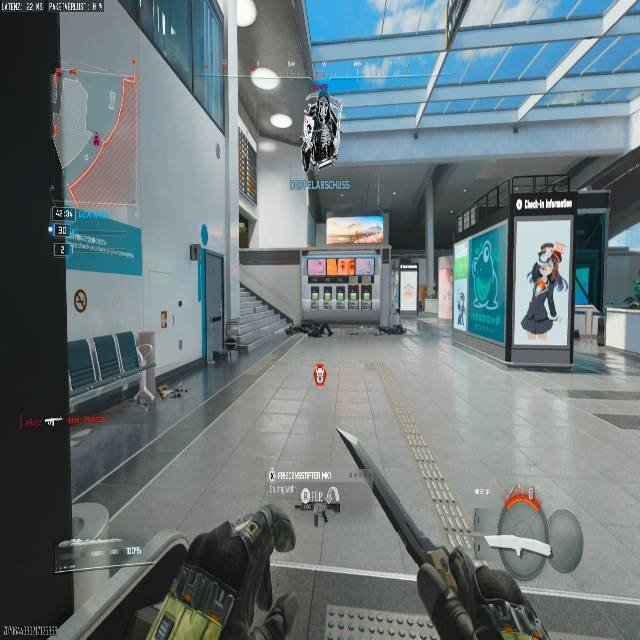head: (538, 242, 553, 260), (544, 242, 559, 258)
player: (300, 85, 342, 175), (524, 241, 565, 326)
